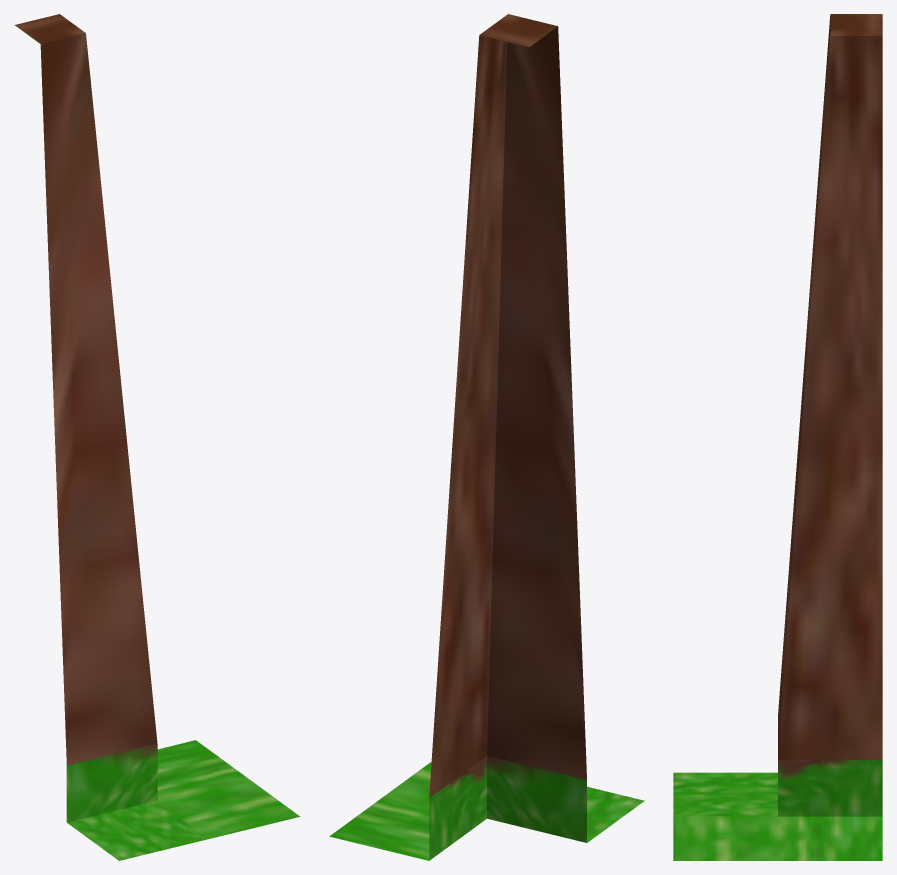
File: mountain_01_GEO.fbx
3 views of the same model, side by side, from view 1: azimuth 30°, elevation 25°; view 2: azimuth 150°, elevation 25°; view 3: azimuth 270°, elevation 25° (orthographic). The views are drawn at different scales.
Visible parts, largest first — view 1: mountain_01_GEO; view 2: mountain_01_GEO; view 3: mountain_01_GEO.
Part boxes in pixels (bbox=[...]): mountain_01_GEO: bbox=[15, 14, 300, 860]; mountain_01_GEO: bbox=[329, 14, 644, 860]; mountain_01_GEO: bbox=[673, 14, 882, 860].
Bounding box in the file's own units: 5 × 20 × 5.
